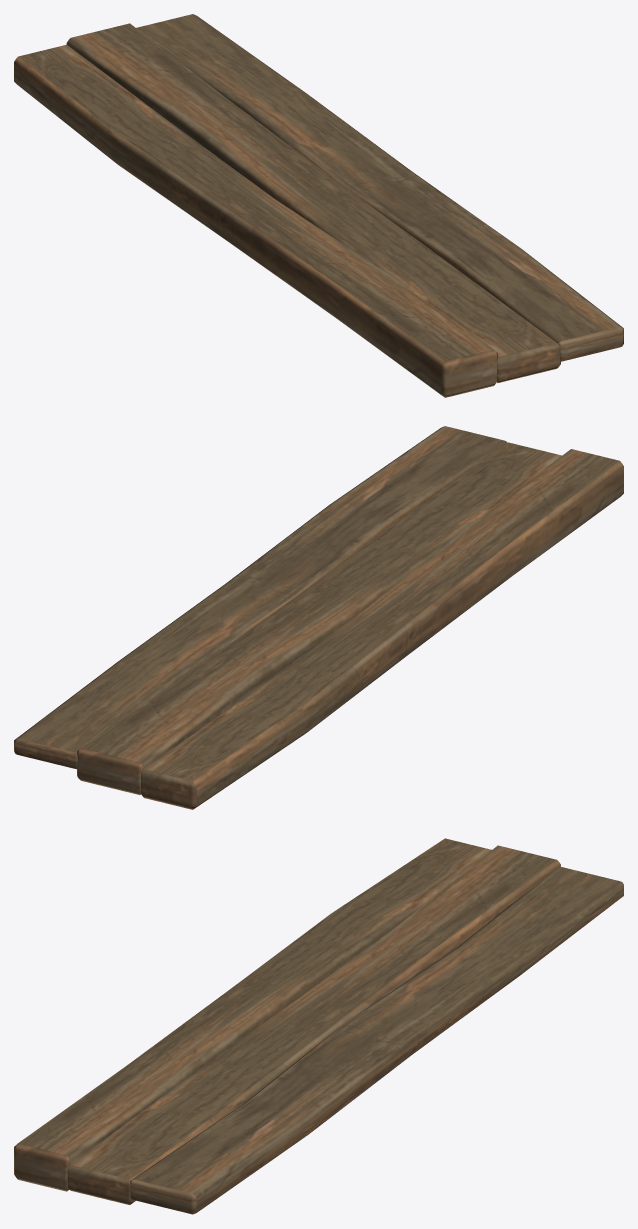
Rendered from SM_wall_part_01.fbx.
3 views of the same model, one above another, from view 1: azimuth 30°, elevation 25°; view 2: azimuth 150°, elevation 25°; view 3: azimuth 330°, elevation 25° (orthographic).
Visible parts, largest first — view 1: SM_wall_part_01_LOD0; view 2: SM_wall_part_01_LOD0; view 3: SM_wall_part_01_LOD0.
Part boxes in pixels (x1,y1,x2,y2): SM_wall_part_01_LOD0: (14,14,623,397); SM_wall_part_01_LOD0: (14,426,623,809); SM_wall_part_01_LOD0: (14,838,623,1214).
Bounding box in the file's own units: 104 × 400 × 18.61.
Materials: 1 (1 with a texture image).
